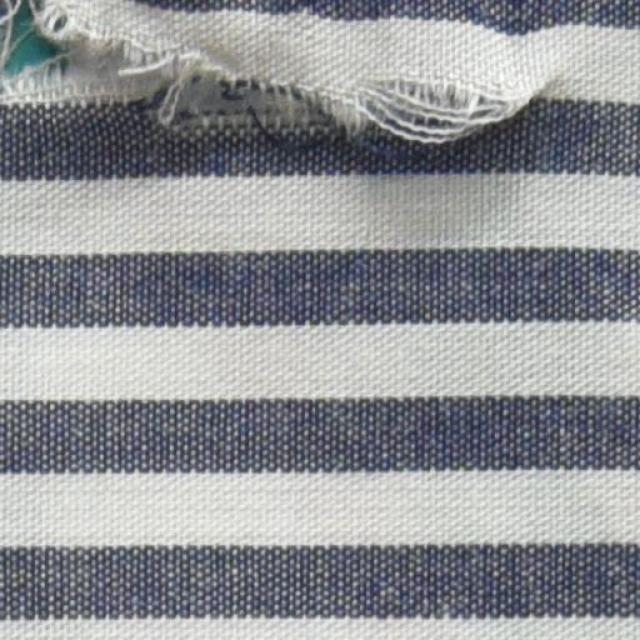cut: (5, 1, 525, 160)
